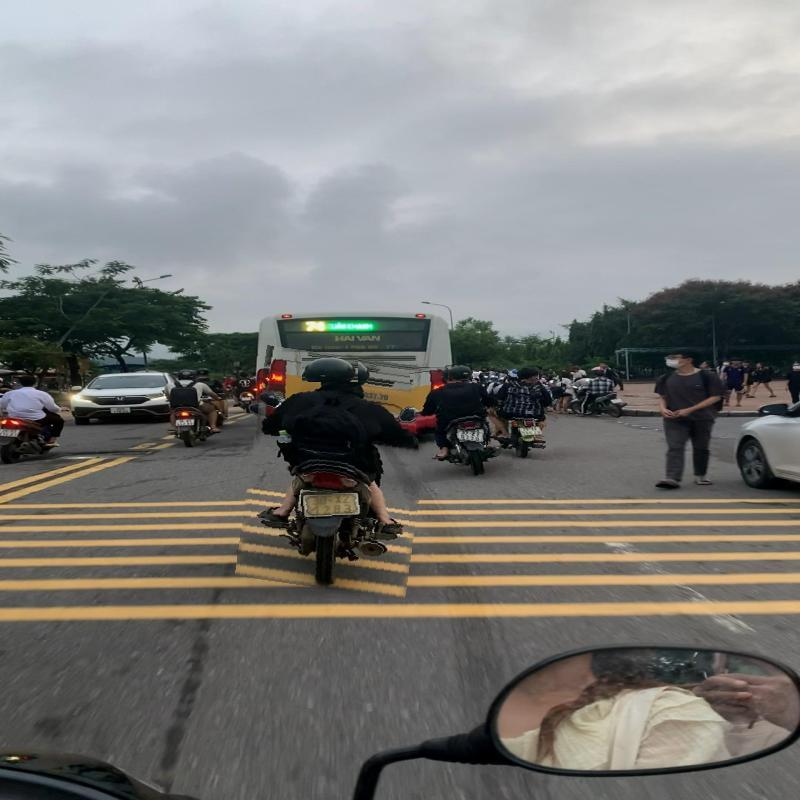helmet: (302, 358, 358, 382), (448, 364, 473, 380)
licenseplate: (301, 490, 362, 518), (455, 430, 486, 444), (520, 426, 546, 437)
motorcyclist: (243, 351, 430, 594), (413, 362, 511, 480), (489, 366, 560, 460)
nohelmet: (516, 366, 539, 380)
